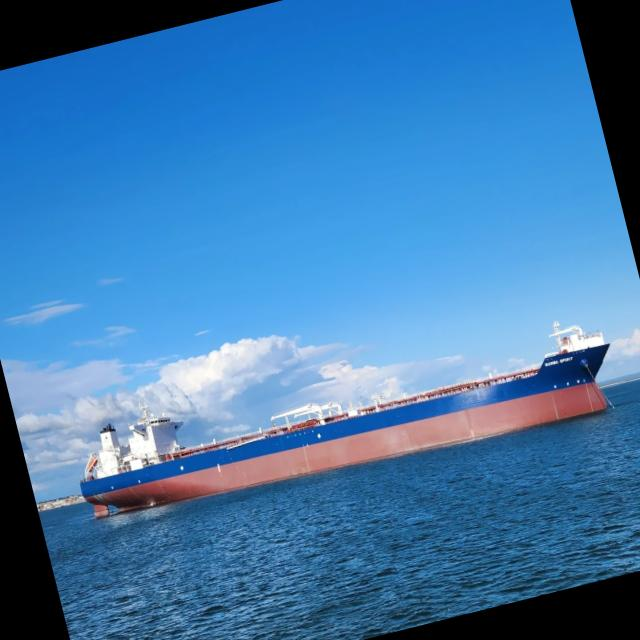Tanker: (80, 324, 609, 517)
